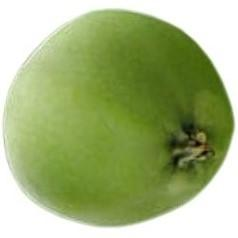fruit: (2, 8, 237, 226)
